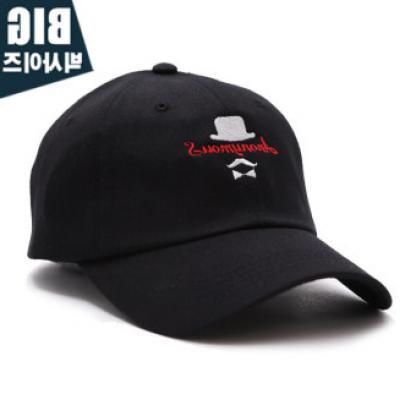cap: (23, 58, 399, 340)
